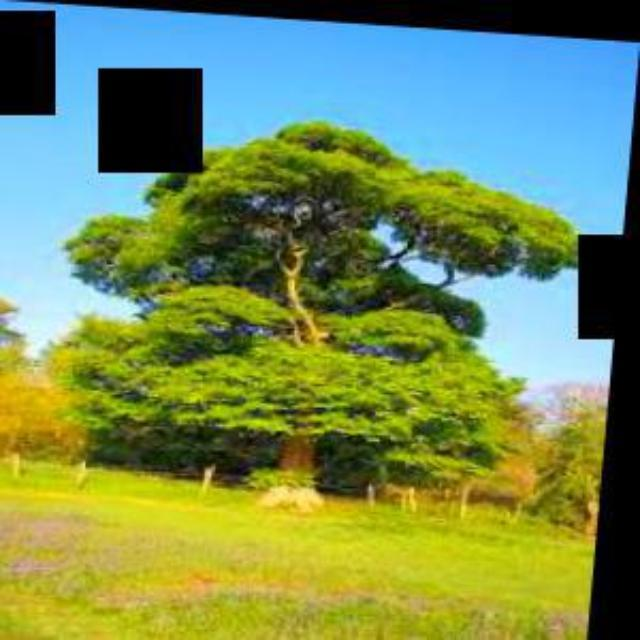tree: (37, 98, 606, 514)
